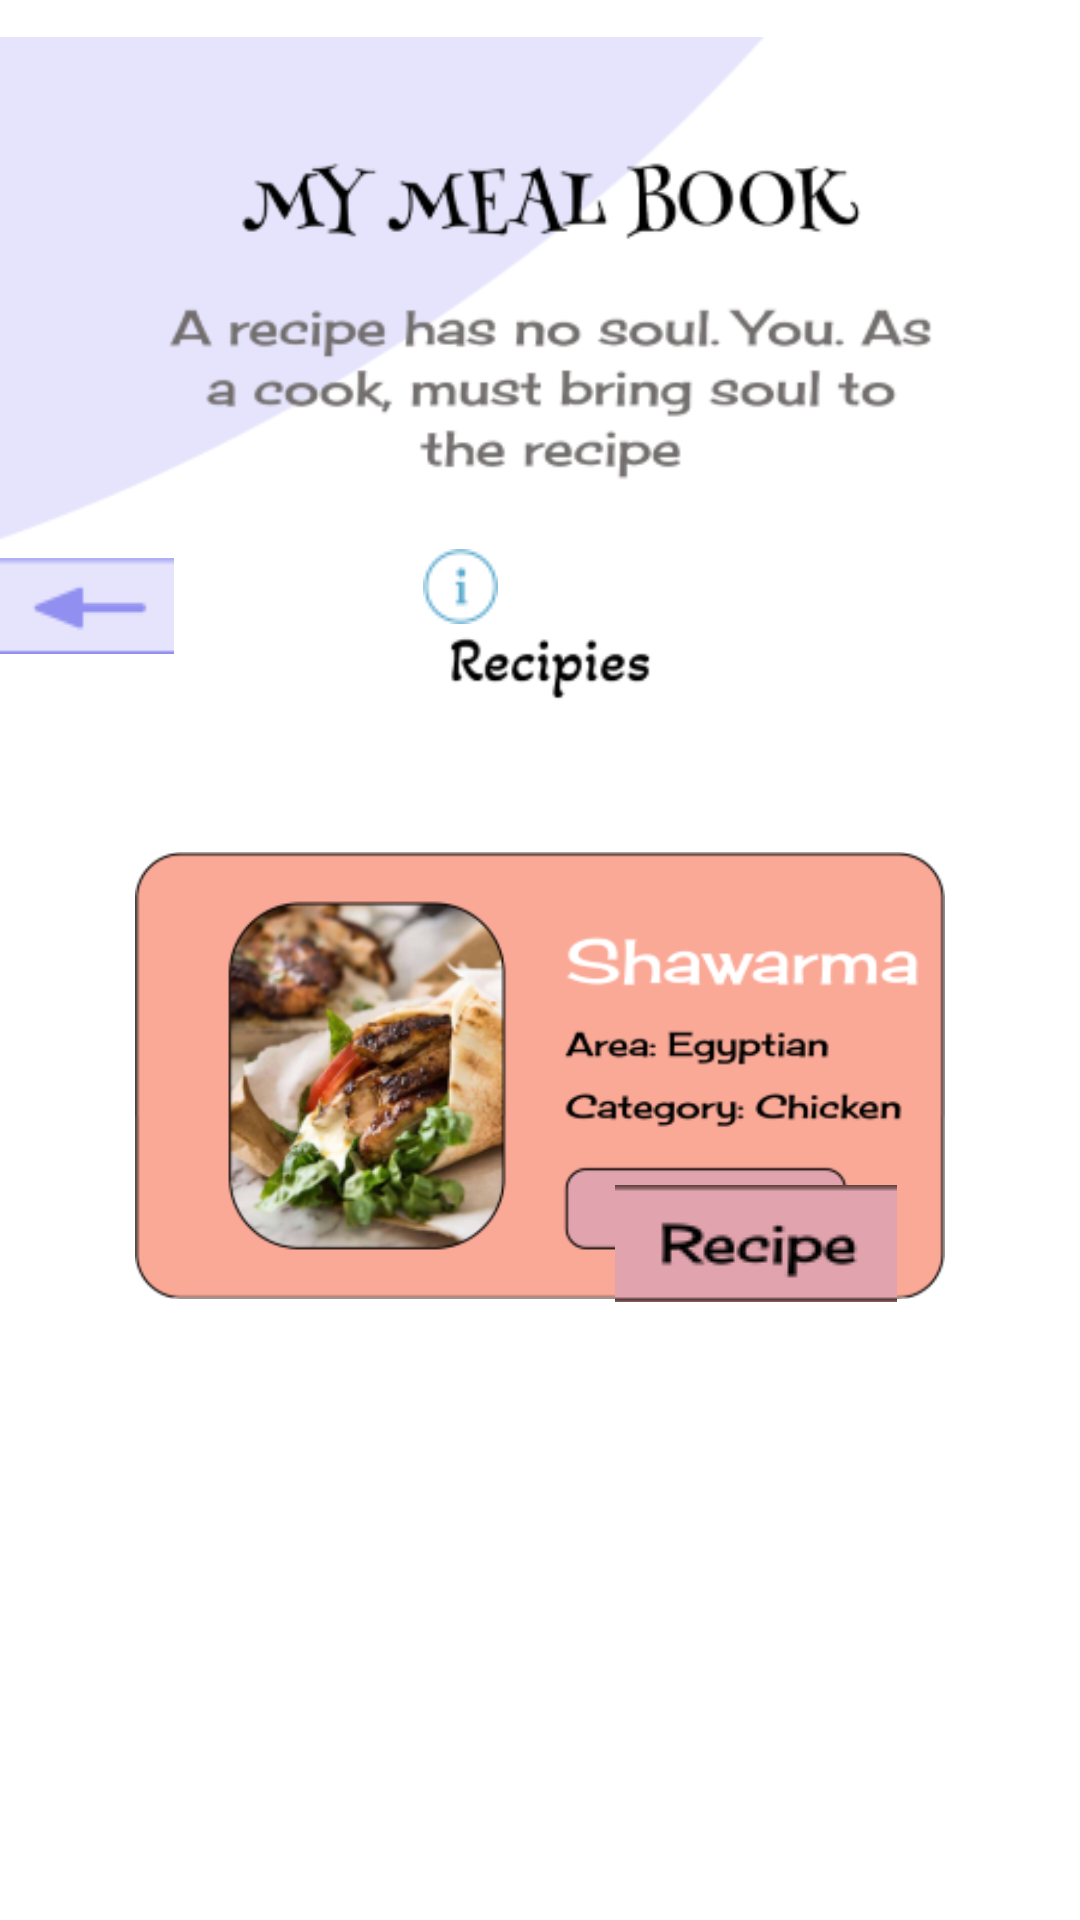

Icon click points for this 1080 × 1920 phone screenshot, format [x,y]:
arrow: [87,606]
info: [460,586]
